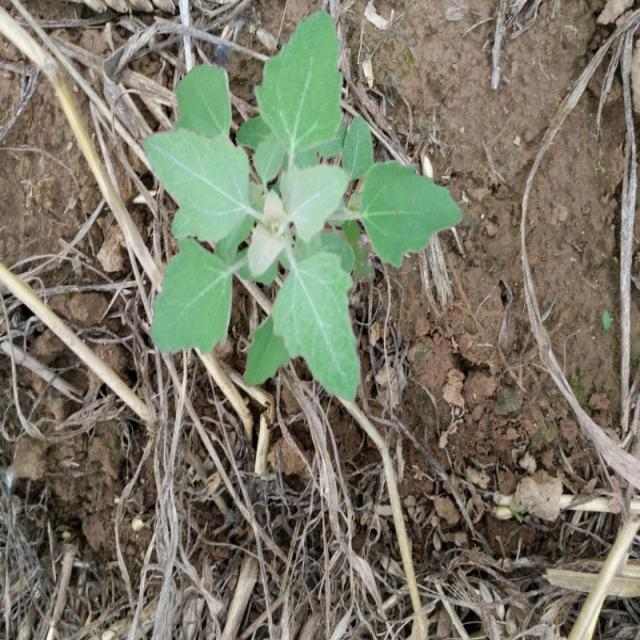goosefoots: (152, 30, 450, 401)
